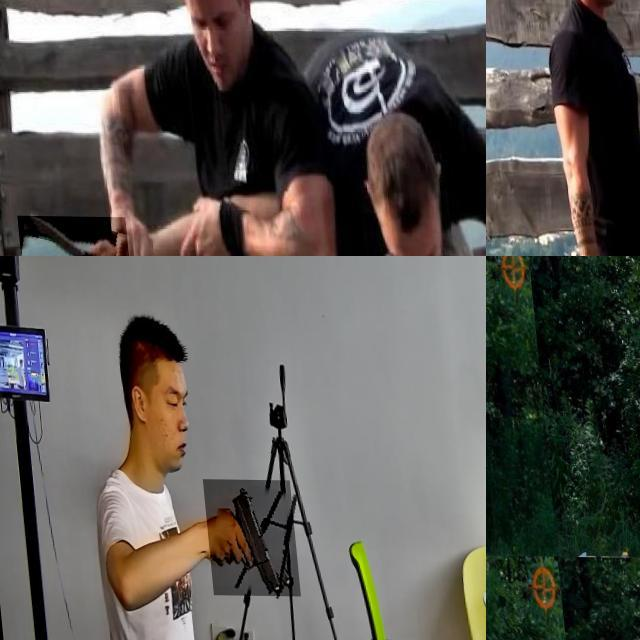-: (8, 215, 121, 256), (486, 422, 517, 475)
gun-knife-thesis - v11 Yolov5 augmented: (196, 478, 292, 596)
